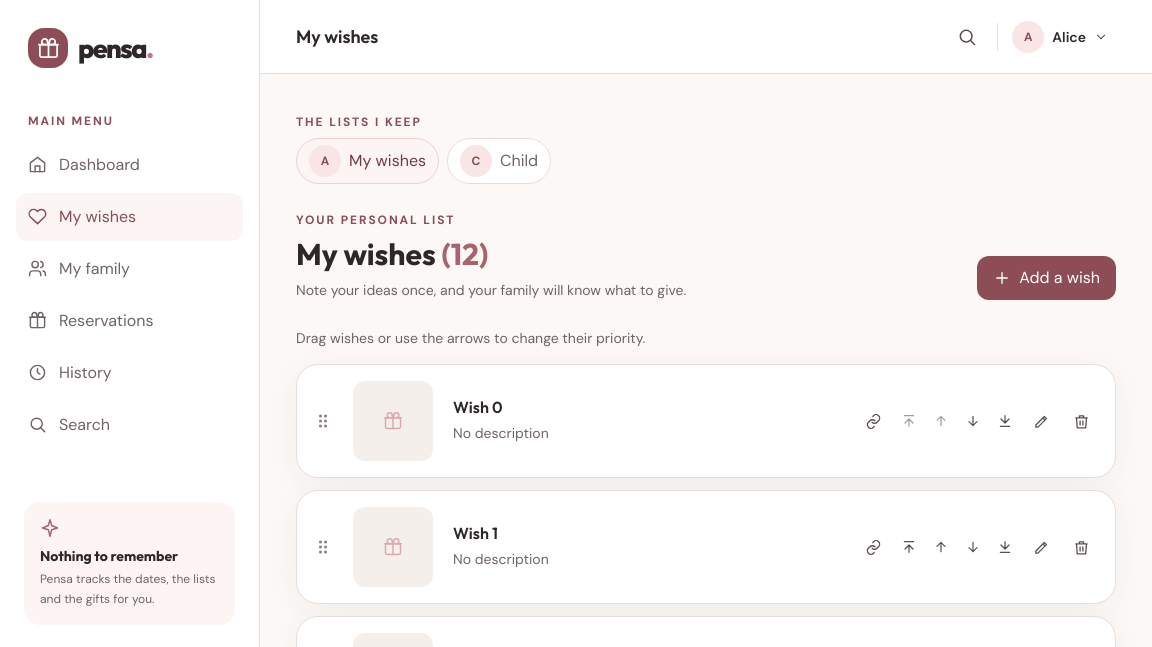
Test: shows a failed save without logout, retry storms, or false success
Click the button named "Move Wish 0 down". click: (973, 421)
box: [959,407,987,435]
Wait 60500 ms
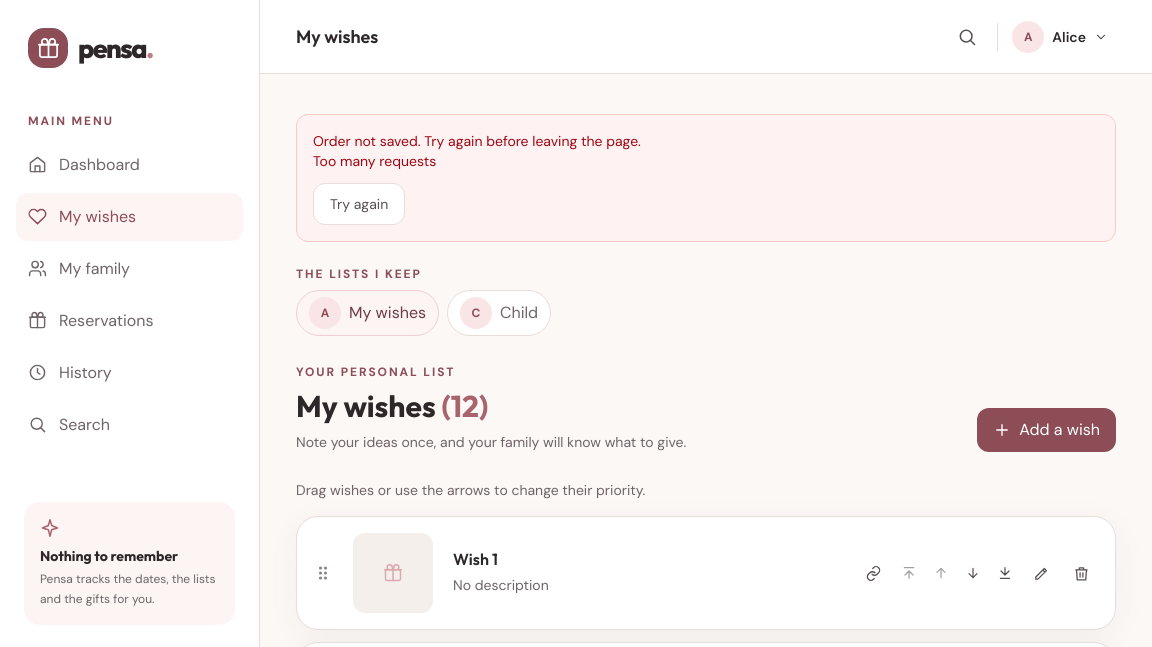
Check: the text "Order saved." is not shown
Check: the text "Order not saved." is shown, box [313,132,641,150]
Click the button "Try again". click: (359, 204)
box: [313,183,405,225]
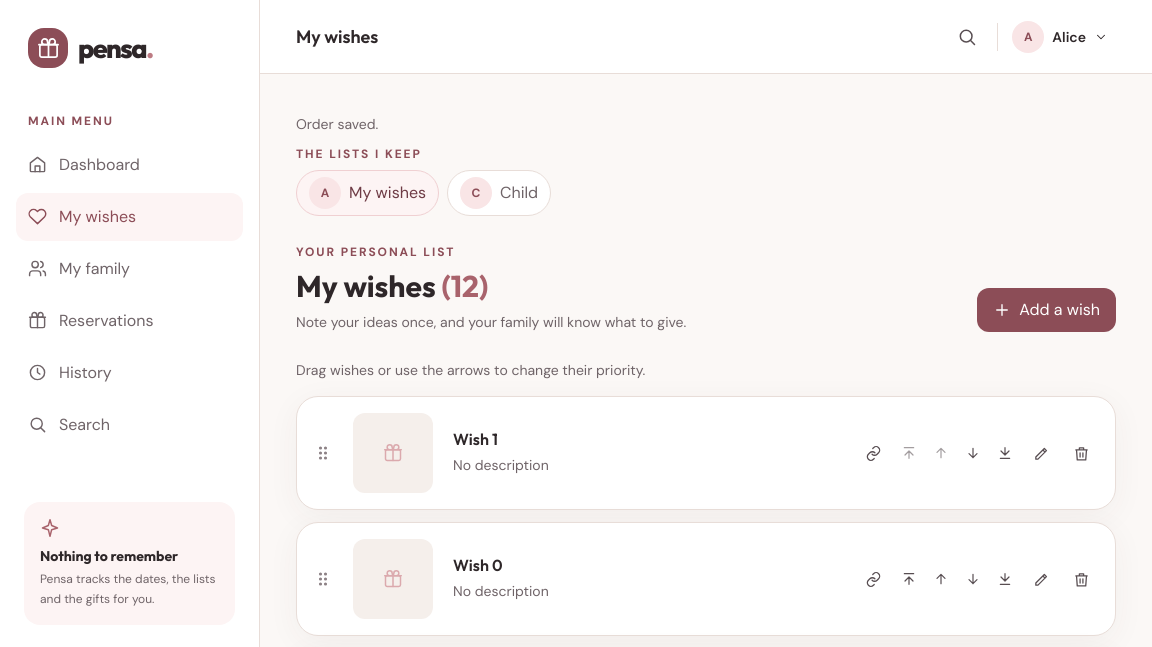
Check: the text "Order saved." is shown, box [296,115,378,133]
